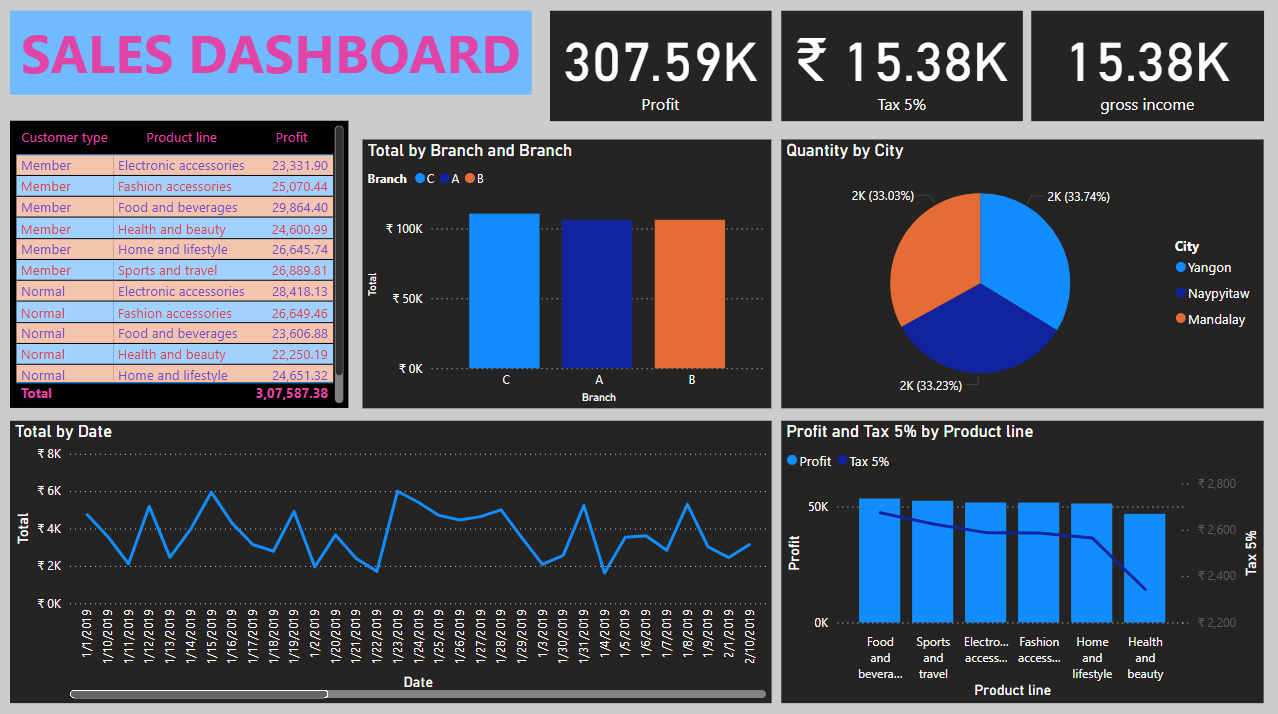

The page's visual inventory and layout, read from the dashboard file:
{"tool":"powerbi","page":{"name":"Page 1","canvas":[1280,720],"ordinal":0},"visuals":[{"type":"card","fields":{"Values":["dataset.Profit"]},"box":[550,13.8,221.2,110],"z":0},{"type":"card","fields":{"Values":["Sum(dataset.Tax 5%)"]},"box":[781.2,13.8,241.2,110],"z":1000},{"type":"textbox","box":[10,13.8,521.2,83.8],"z":2000},{"type":"columnChart","fields":{"Category":["dataset.Branch"],"Y":["Sum(dataset.Total)"],"Series":["dataset.Branch"]},"box":[362.5,142.5,408.8,268.8],"z":3000},{"type":"lineChart","fields":{"Category":["dataset.Date"],"Y":["Sum(dataset.Total)"]},"box":[10,423.8,761.2,282.5],"z":4000},{"type":"lineClusteredColumnComboChart","fields":{"Y":["dataset.Profit"],"Y2":["Sum(dataset.Tax 5%)"],"Category":["dataset.Product line"]},"box":[781.2,423.8,482.5,282.5],"z":5000},{"type":"pieChart","fields":{"Category":["dataset.City"],"Y":["Sum(dataset.Quantity)"]},"box":[781.2,142.5,482.5,268.8],"z":6000},{"type":"tableEx","fields":{"Values":["dataset.Customer type","dataset.Product line","dataset.Profit"]},"box":[9.8,123.5,338.7,287.4],"z":7000},{"type":"card","fields":{"Values":["Sum(dataset.gross income)"]},"box":[1031.2,13.8,232.5,110],"z":8000}]}

Visuals, with their boxes in screenshot pixels (x1, y1, x2, y2), scaled from the page's 1280x720 canvas onto the 1278x714 screenshot:
card - dataset.Profit: <bbox>549, 14, 770, 123</bbox>
card - Sum(dataset.Tax 5%): <bbox>780, 14, 1021, 123</bbox>
textbox: <bbox>10, 14, 530, 97</bbox>
columnChart - dataset.Branch x Sum(dataset.Total): <bbox>362, 141, 770, 408</bbox>
lineChart - dataset.Date x Sum(dataset.Total): <bbox>10, 420, 770, 700</bbox>
lineClusteredColumnComboChart - dataset.Profit x Sum(dataset.Tax 5%): <bbox>780, 420, 1262, 700</bbox>
pieChart - dataset.City x Sum(dataset.Quantity): <bbox>780, 141, 1262, 408</bbox>
tableEx - dataset.Customer type x dataset.Product line: <bbox>10, 122, 348, 407</bbox>
card - Sum(dataset.gross income): <bbox>1030, 14, 1262, 123</bbox>
